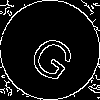G: (25, 25, 84, 85)
